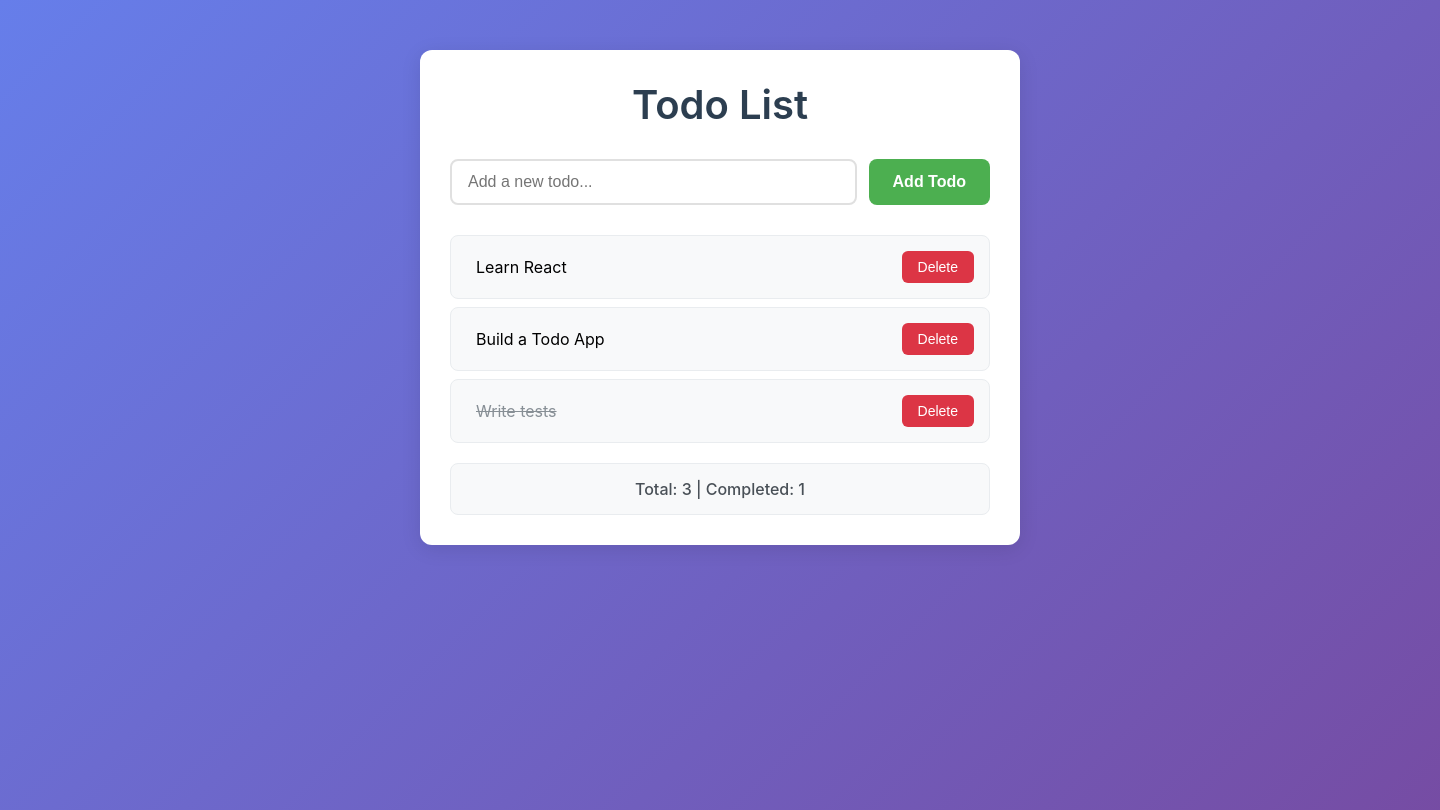
Test: TodoList Component › Deleting Todos › deletes correct todo when multiple exist
Type "Temporary Todo" into the field with test id "todo-input" at (653, 182), box 450,159 -> 856,205
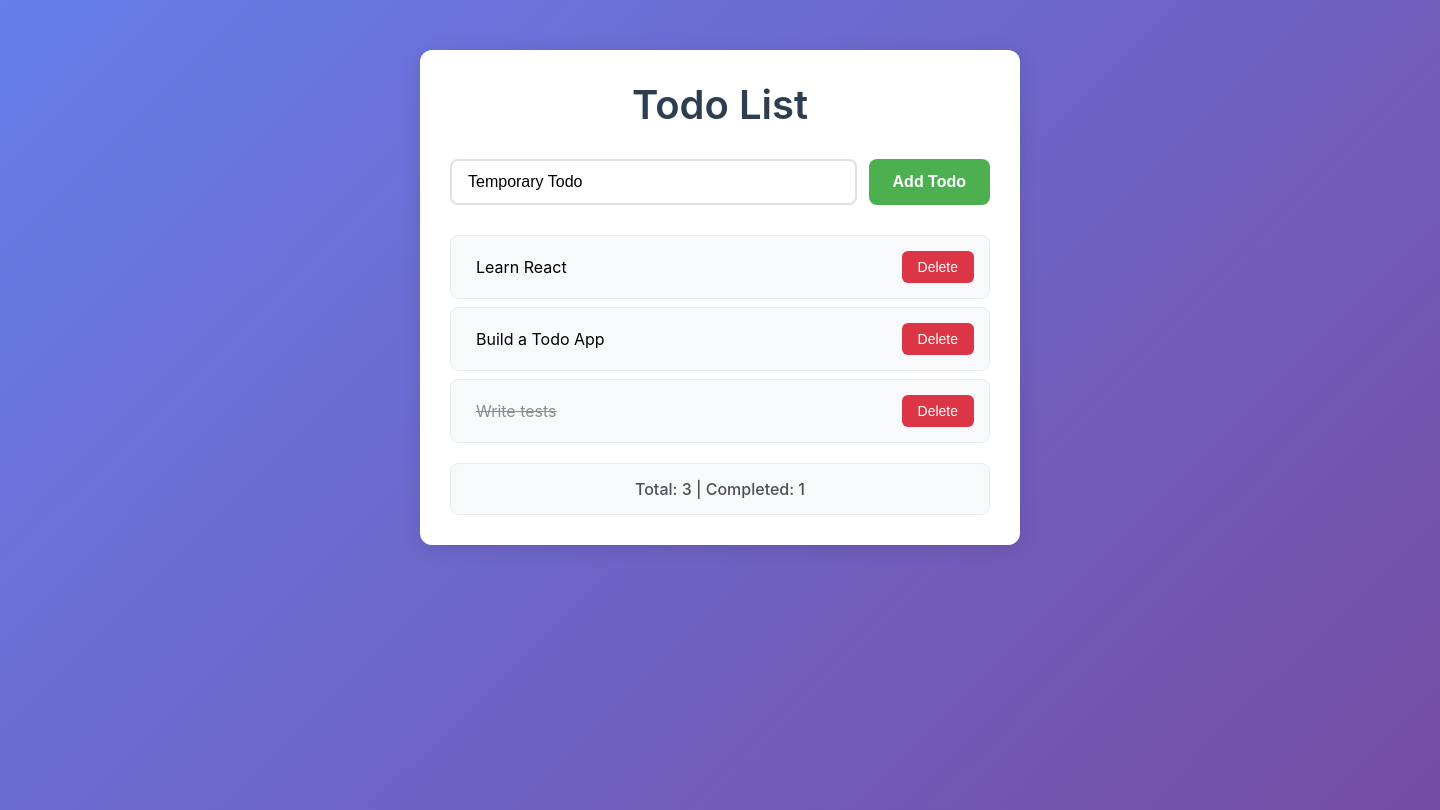
Click the button with test id "add-button" at (929, 182), box 868,159 -> 990,205
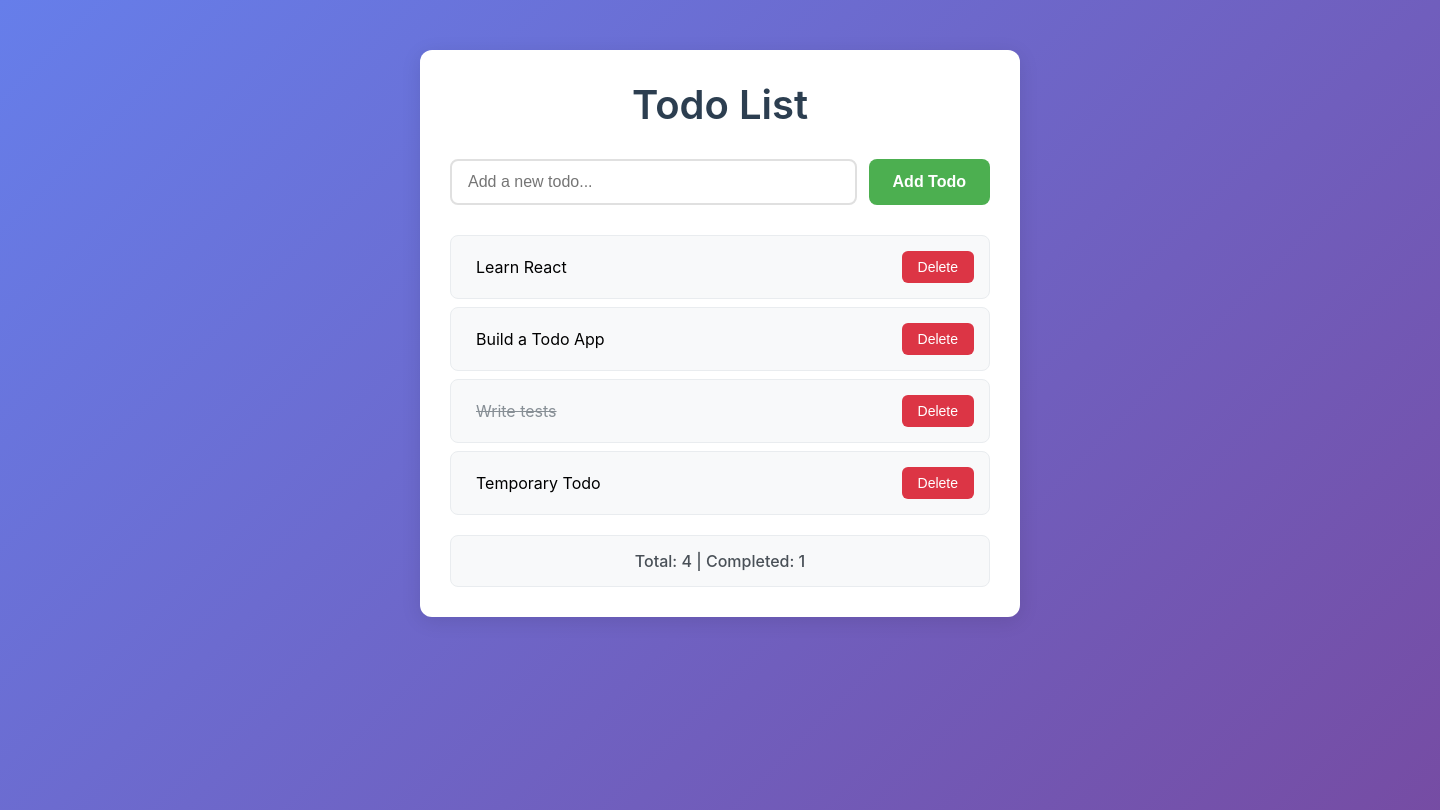
Check: the text "Temporary Todo" is shown, box 476,473 -> 601,493
Click the button "Delete" in the row of "Temporary Todo" at (938, 483), box 902,467 -> 974,499
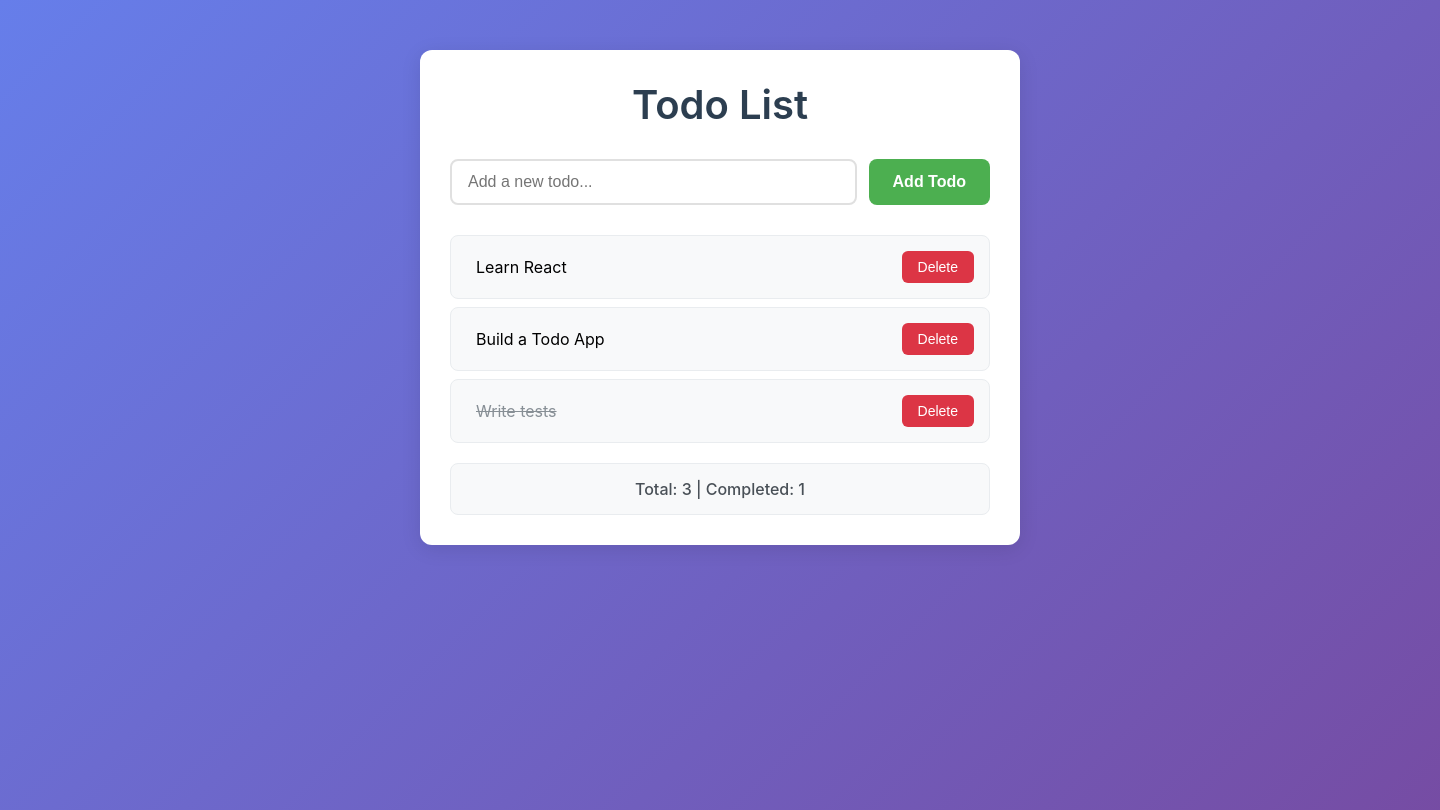
Check: the text "Learn React" is shown, box 476,257 -> 567,277
Check: the text "Temporary Todo" is gone
